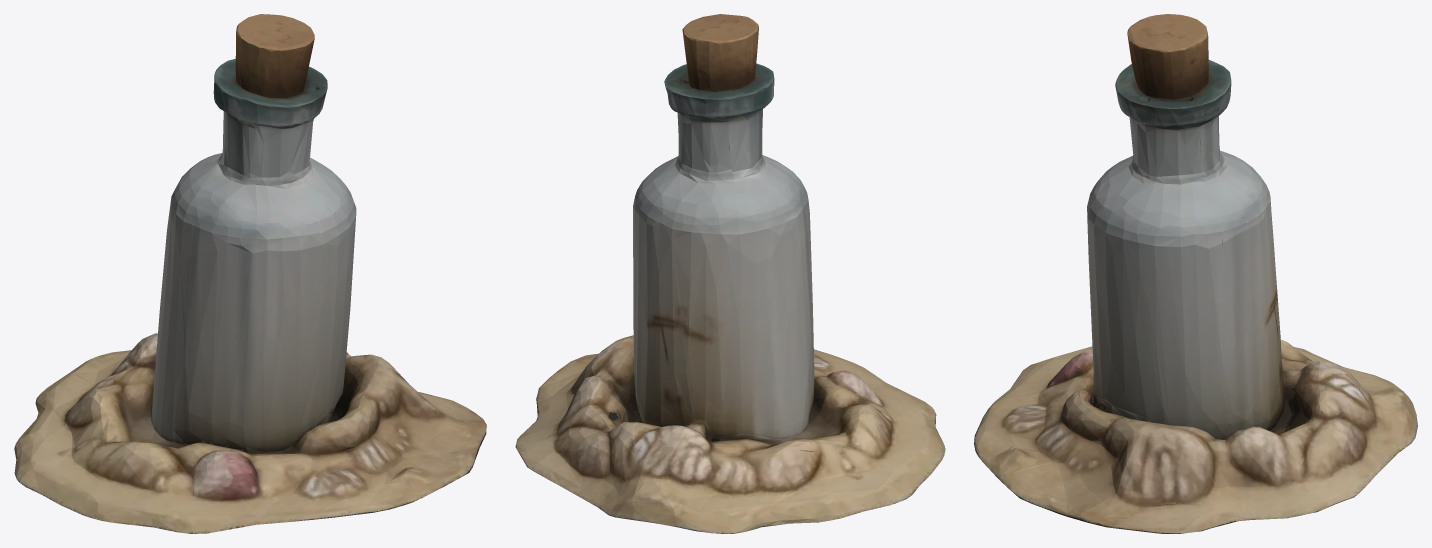
3 views of the same model, side by side, from view 1: azimuth 30°, elevation 25°; view 2: azimuth 150°, elevation 25°; view 3: azimuth 270°, elevation 25° (orthographic). The views are drawn at different scales.
Visible parts, largest first — view 1: world; view 2: world; view 3: world.
Part boxes in pixels (x1,y1,x2,y2): world: (14,14,486,533); world: (515,14,945,533); world: (974,14,1417,533).
Bounding box in the file's own units: 0.9889 × 0.975 × 0.9361.
1 material, 1 textured.
